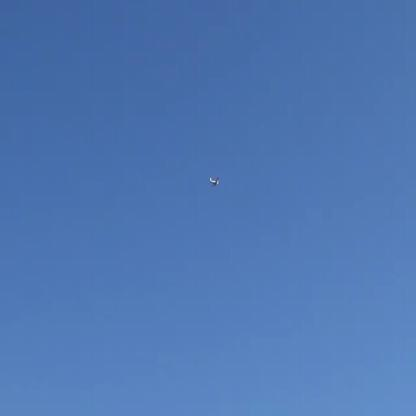CIV_Plane: (210, 176, 221, 186)
